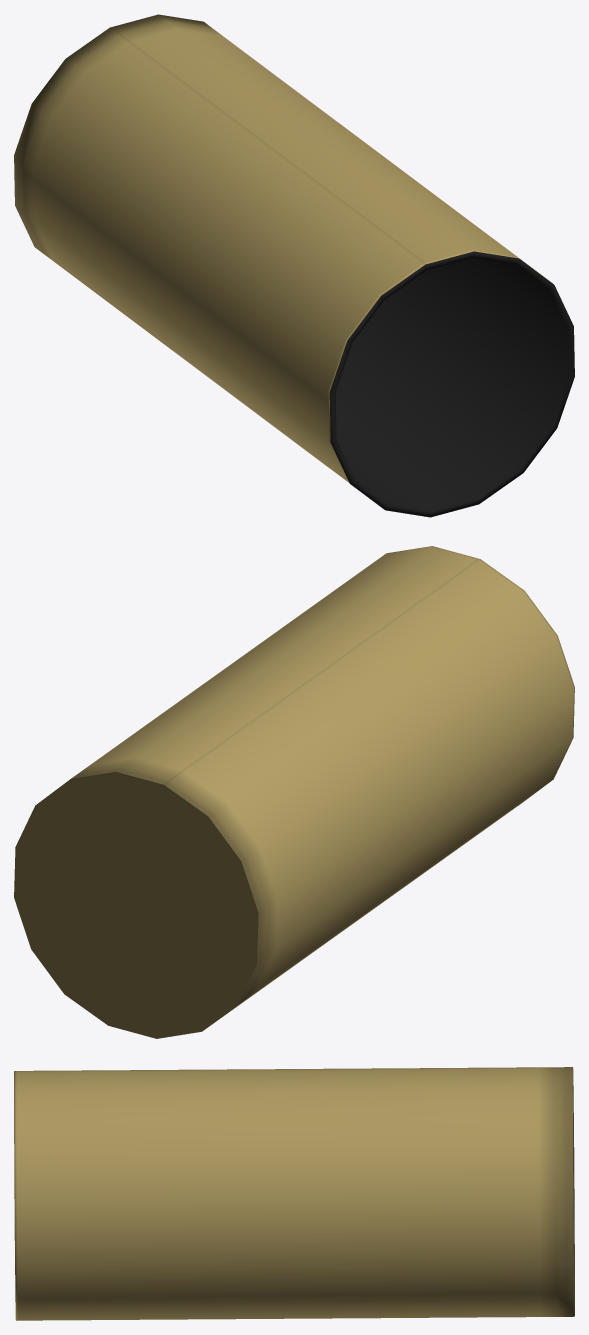
File: s3d_shell_9mm_casing.fbx
3 views of the same model, one above another, from view 1: azimuth 30°, elevation 25°; view 2: azimuth 150°, elevation 25°; view 3: azimuth 270°, elevation 25° (orthographic). The views are drawn at different scales.
Parts seen in each view (by area): view 1: s3d_shell_9mm_casing; view 2: s3d_shell_9mm_casing; view 3: s3d_shell_9mm_casing.
Part boxes in pixels (x1,y1,x2,y2): s3d_shell_9mm_casing: [14, 14, 574, 517]; s3d_shell_9mm_casing: [14, 546, 574, 1038]; s3d_shell_9mm_casing: [14, 1067, 574, 1320].
Size of the model in its own units: 0.8899 by 0.9042 by 1.99.
